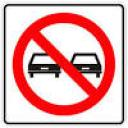NoUltrapassar: (8, 9, 118, 118)
